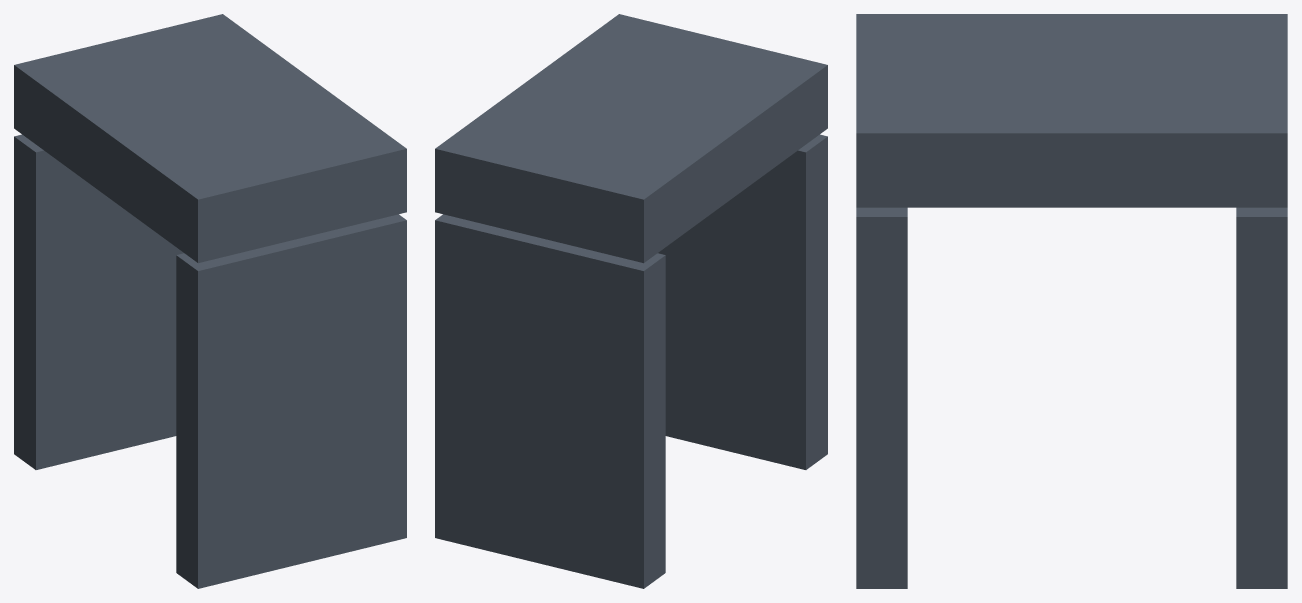
File: steering_fork.dae
3 renders of one model, left to right at view 1: azimuth 30°, elevation 25°; view 2: azimuth 150°, elevation 25°; view 3: azimuth 270°, elevation 25°, orthographic. The views are drawn at different scales.
Visible parts, largest first — view 1: steering_fork_01, steering_fork_00, steering_fork_02; view 2: steering_fork_02, steering_fork_00, steering_fork_01; view 3: steering_fork_00, steering_fork_01, steering_fork_02.
Part boxes in pixels (x1,y1,x2,y2): steering_fork_01: (176,214,406,588); steering_fork_00: (14,14,406,263); steering_fork_02: (14,134,183,469); steering_fork_02: (435,214,665,588); steering_fork_00: (435,14,827,263); steering_fork_01: (658,134,827,469); steering_fork_00: (856,14,1287,207); steering_fork_01: (856,207,907,588); steering_fork_02: (1236,207,1287,588).
Bounding box in the file's own units: 0.055 × 0.084 × 0.098.
